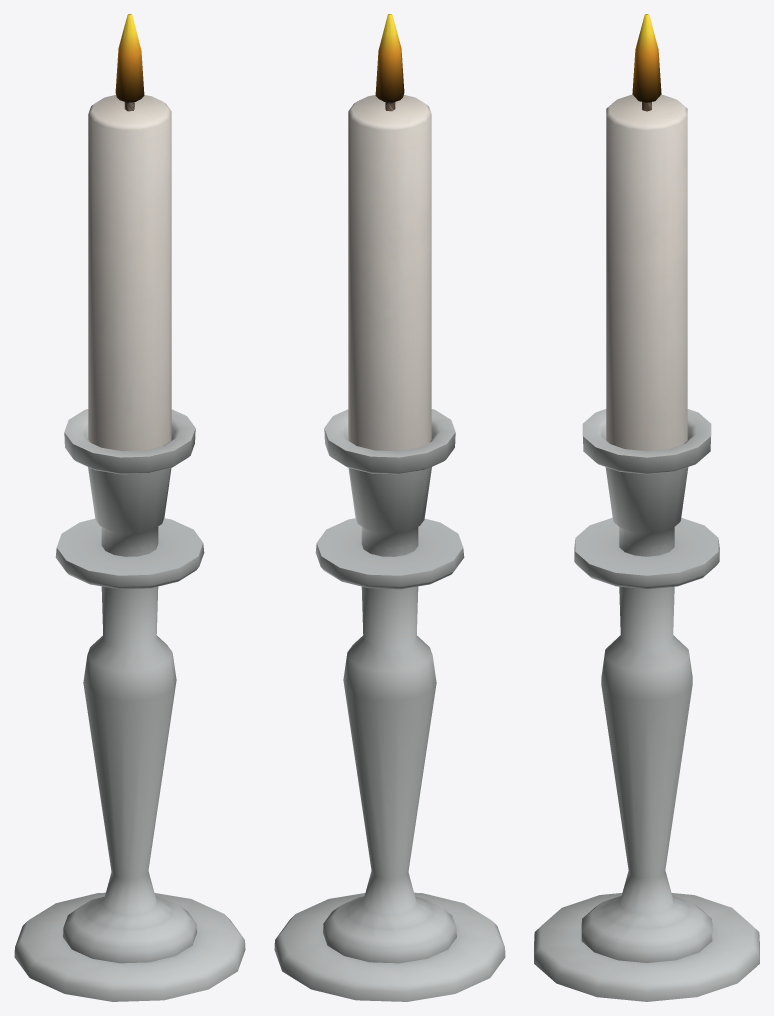
Rendered from DecorCandles01_1.FBX.
3 views of the same model, side by side, from view 1: azimuth 30°, elevation 25°; view 2: azimuth 150°, elevation 25°; view 3: azimuth 270°, elevation 25° (orthographic).
Parts seen in each view (by area): view 1: DecorCandles01_1; view 2: DecorCandles01_1; view 3: DecorCandles01_1.
Boxes of the visible parts, x1=… form: DecorCandles01_1: x1=14, y1=14, x2=245, y2=1001; DecorCandles01_1: x1=274, y1=14, x2=505, y2=1001; DecorCandles01_1: x1=534, y1=14, x2=759, y2=1001.
Size of what is drawn, in the model's own units: 0.1157 by 0.5173 by 0.1128.
